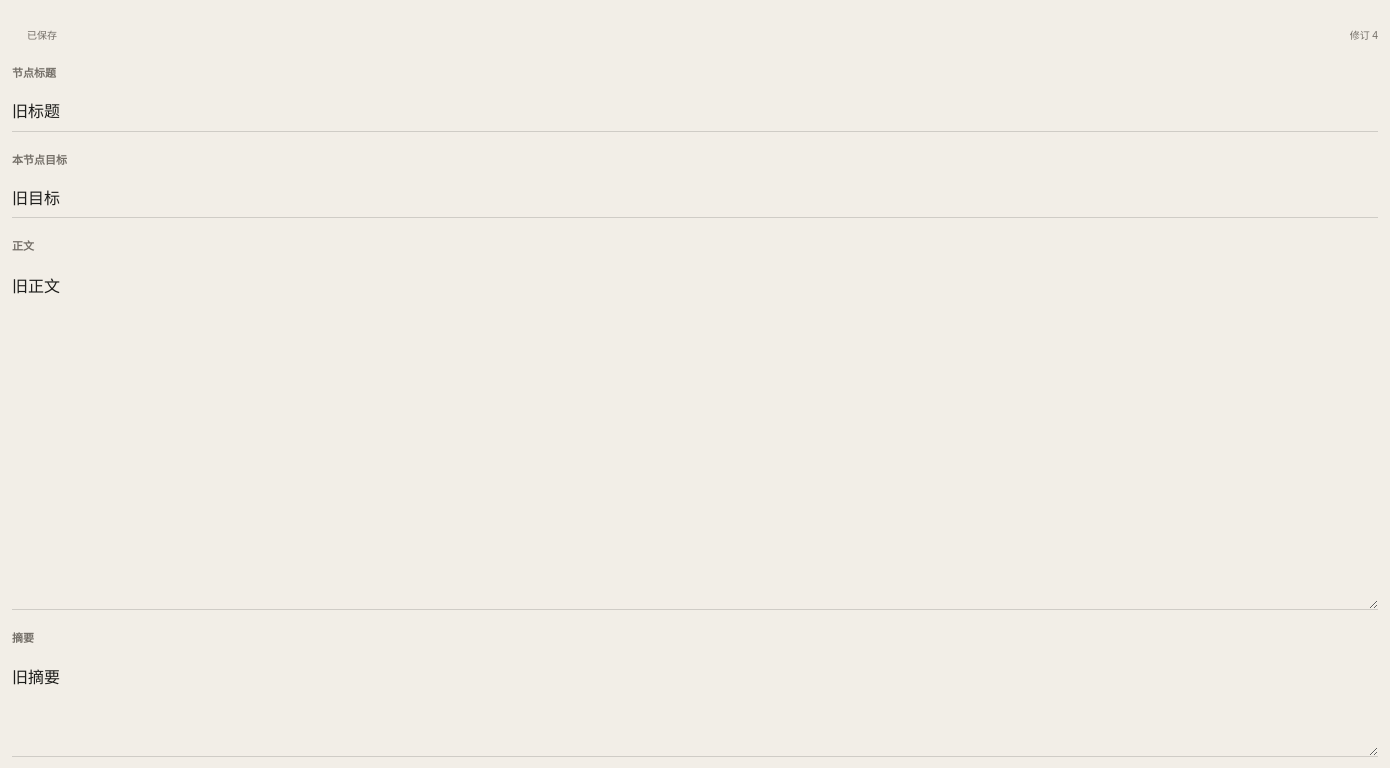
Test: NodeEditor › flushes on blur and reflects the server revision without losing the draft
This screenshot has width=1390, height=768.
Replace the text in the text box labelled "摘要" with "本地新摘要". click: (695, 706)
box: [12, 654, 1378, 757]
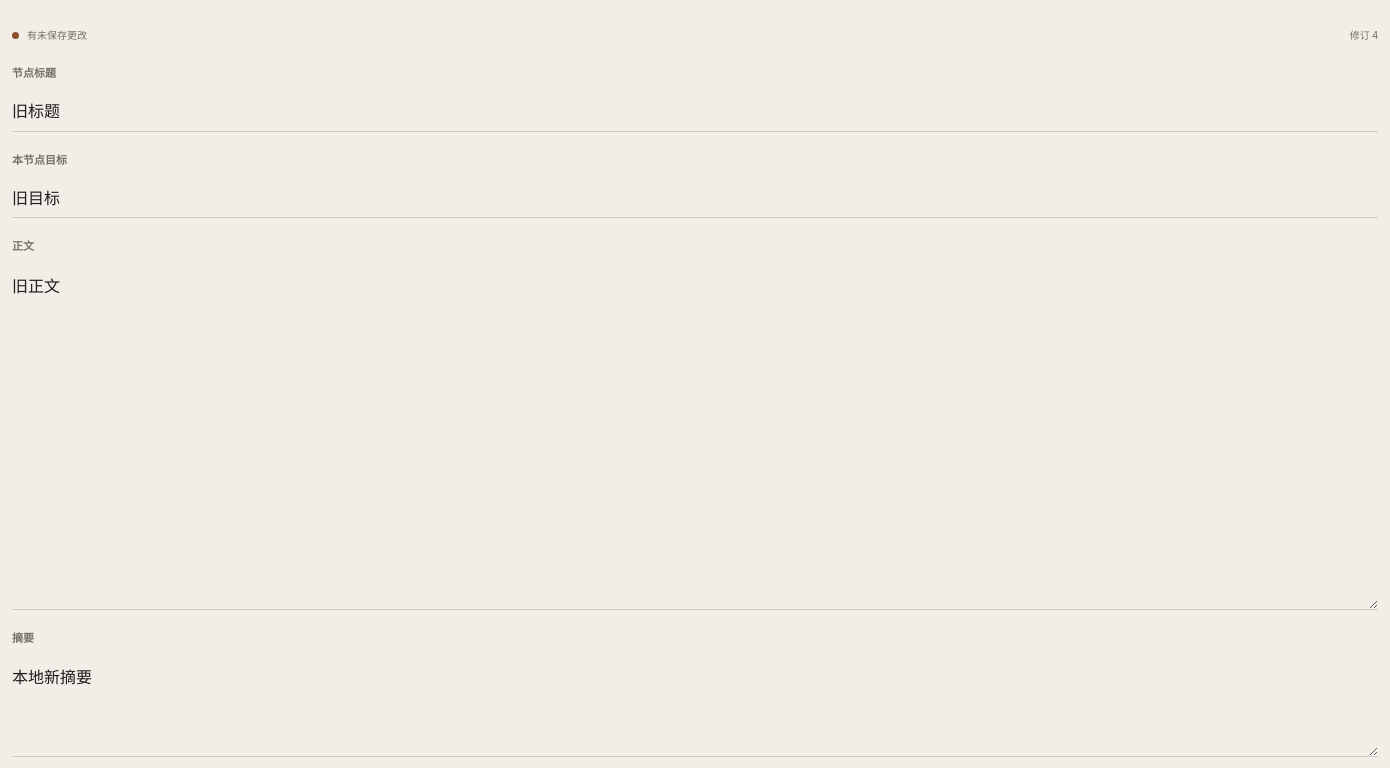
Leave the text box labelled "摘要", box [12, 654, 1378, 757]
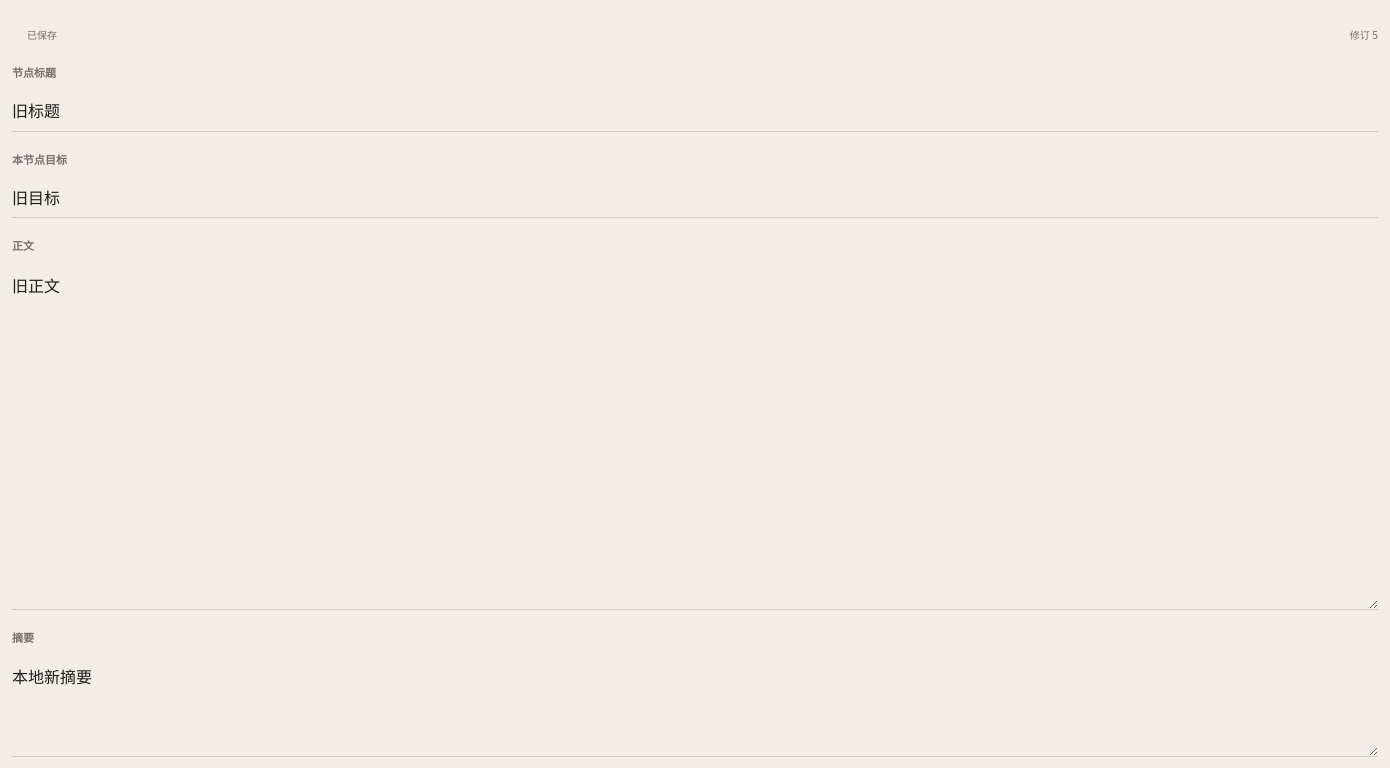
Check: the text "已保存" is shown, box [27, 28, 57, 43]
